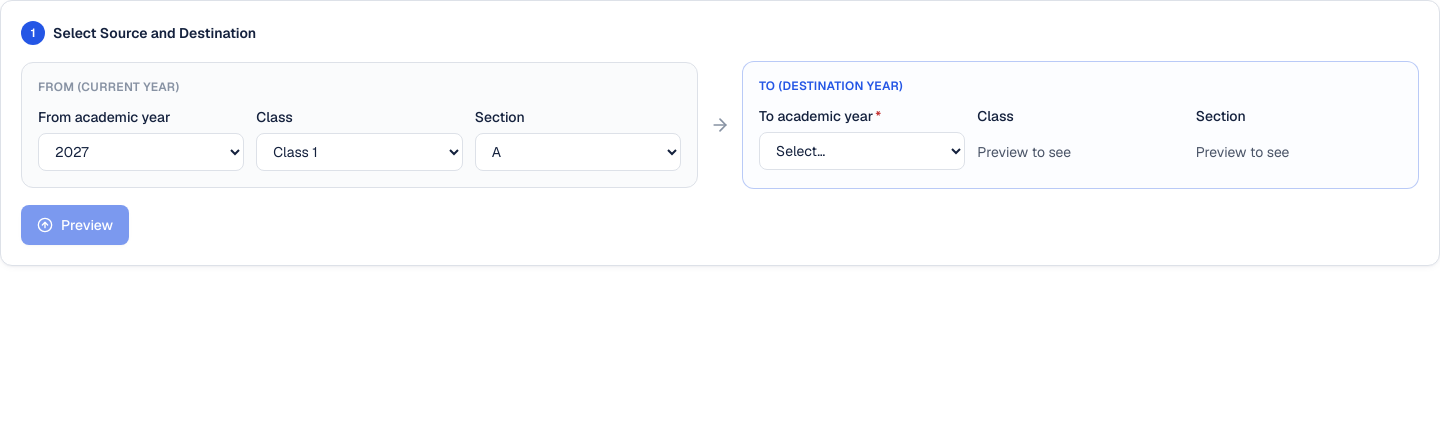
PromotionWizard — destination-not-ready state › shows an actionable 'Destination not ready' card, using the API's own real message, when the next class doesn't exist yet
This screenshot has width=1440, height=438.
Select "2028" in the dropdown labelled "To academic year" at (862, 151), box [759, 132, 965, 170]
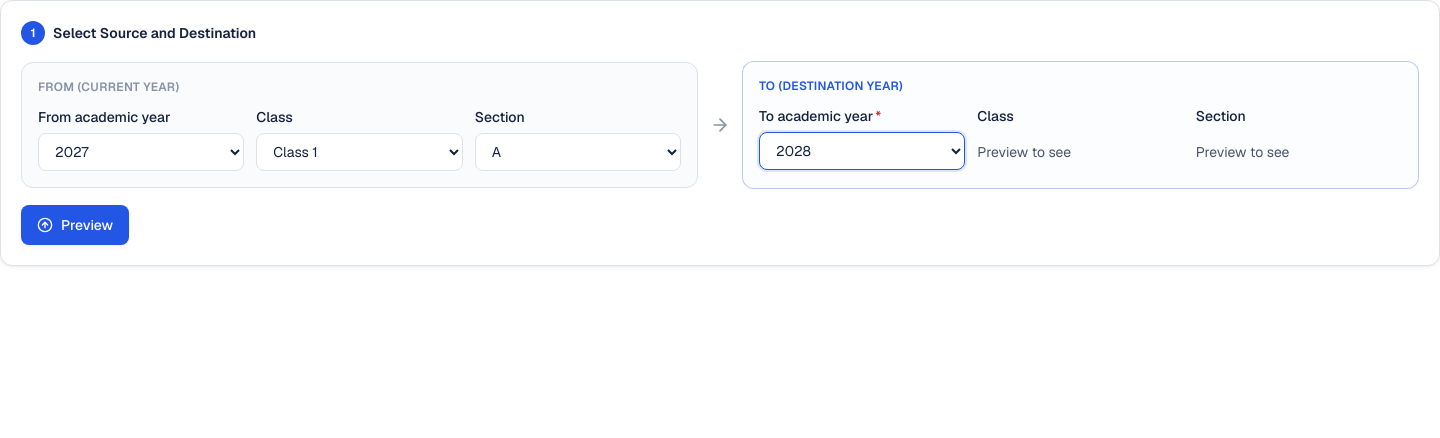
Expected: the button "Preview" is enabled
Click the button "Preview" at (75, 225), box [21, 205, 129, 245]
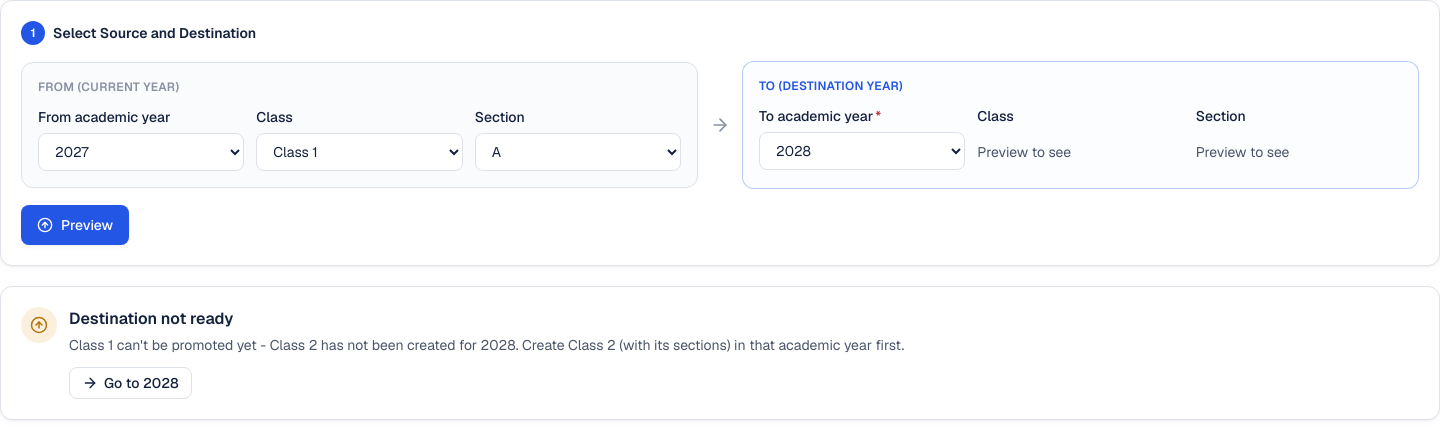
Expected: the heading "Destination not ready" is shown, [69, 308, 233, 329]
Expected: the text "Class 2 has not been created for 2028" is shown, [69, 336, 904, 354]
